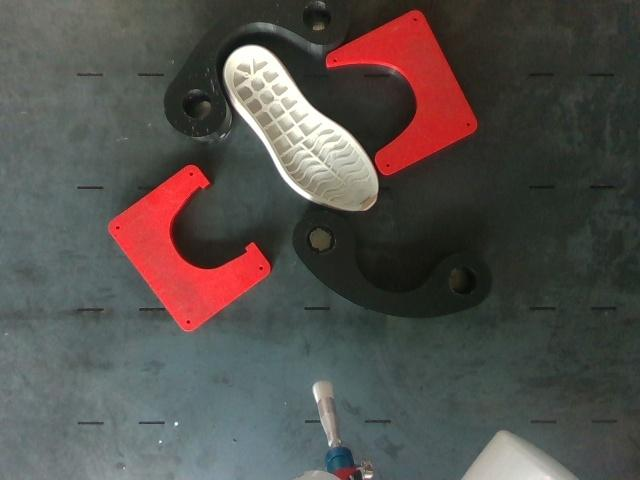shoes: (226, 47, 378, 210)
